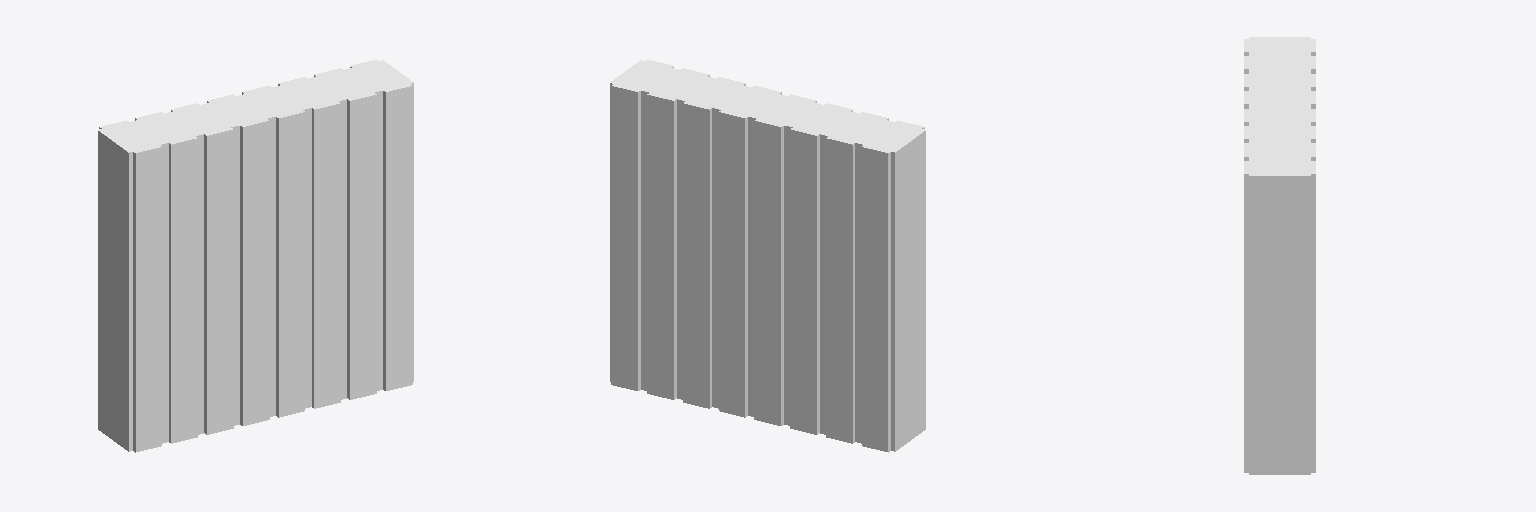
File: MazeWall_norm_01.obj
3 views of the same model, side by side, from view 1: azimuth 30°, elevation 25°; view 2: azimuth 150°, elevation 25°; view 3: azimuth 270°, elevation 25° (orthographic).
Visible parts, largest first — view 1: object 1; view 2: object 1; view 3: object 1.
Part boxes in pixels (bbox=[...]): object 1: bbox=[98, 59, 413, 452]; object 1: bbox=[610, 59, 925, 452]; object 1: bbox=[1244, 37, 1315, 474].
Size of the model in its own units: 6.4 by 6.4 by 1.4.